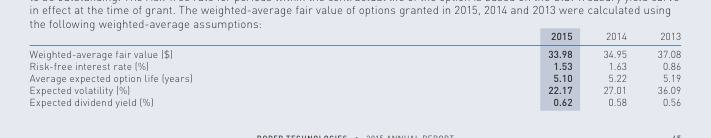table: (28, 29, 680, 107)
table column: (28, 29, 369, 107), (369, 29, 586, 107), (586, 29, 641, 107), (641, 29, 680, 107)
table column header: (28, 29, 680, 44)
table row: (28, 29, 680, 44), (28, 44, 680, 58), (28, 94, 680, 107), (28, 58, 680, 70), (28, 70, 680, 82), (28, 82, 680, 94)
